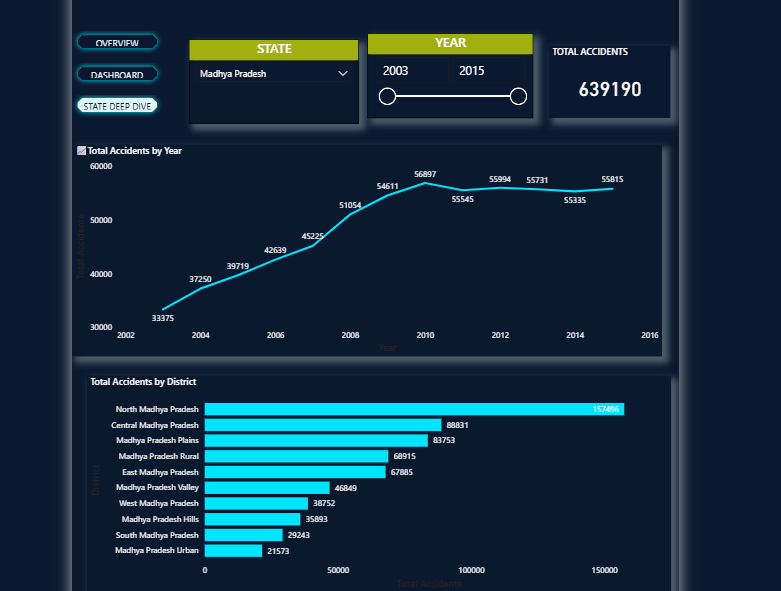

The page's visual inventory and layout, read from the dashboard file:
{"tool":"powerbi","page":{"name":"STATE DEEP DIVE","canvas":[900,1440],"ordinal":2},"visuals":[{"type":"slicer","title":"STATE","fields":{"Values":["Road_Accidents_2003_to_2015.State"]},"box":[173.3,126.7,251.1,124.4],"z":0},{"type":"slicer","title":"YEAR","fields":{"Values":["Road_Accidents_2003_to_2015.Year"]},"box":[437.5,117.5,245,125],"z":1000},{"type":"lineChart","title":"   📈Total Accidents by Year","fields":{"Category":["Road_Accidents_2003_to_2015.Year"],"Y":["Road_Accidents_2003_to_2015.Total Accidents"]},"box":[0,282.5,873.8,313.8],"z":2000},{"type":"clusteredBarChart","fields":{"Category":["Road_Accidents_2003_to_2015.District"],"Y":["Road_Accidents_2003_to_2015.Total Accidents"]},"box":[21.2,623.8,865,320],"z":3000},{"type":"card","title":"TOTAL ACCIDENTS","fields":{"Values":["Road_Accidents_2003_to_2015.Total Accidents"]},"box":[707.5,135,180,107.5],"z":4000},{"type":"bookmarkNavigator","box":[0,0,600,50],"z":5000},{"type":"pageNavigator","box":[0,110,134.3,132.9],"z":6000}]}

Visuals, with their boxes on the page's 900x1440 design canvas (x1, y1, x2, y2). These are canvas units, not pixel positions in the 781x591 screenshot, which may show the page scaled, cropped or inside an application window:
"STATE" slicer: x1=173, y1=127, x2=424, y2=251
"YEAR" slicer: x1=438, y1=118, x2=682, y2=242
"   📈Total Accidents by Year" lineChart: x1=0, y1=282, x2=874, y2=596
clusteredBarChart - Road_Accidents_2003_to_2015.District x Road_Accidents_2003_to_2015.Total Accidents: x1=21, y1=624, x2=886, y2=944
"TOTAL ACCIDENTS" card: x1=708, y1=135, x2=888, y2=242
bookmarkNavigator: x1=0, y1=0, x2=600, y2=50
pageNavigator: x1=0, y1=110, x2=134, y2=243
